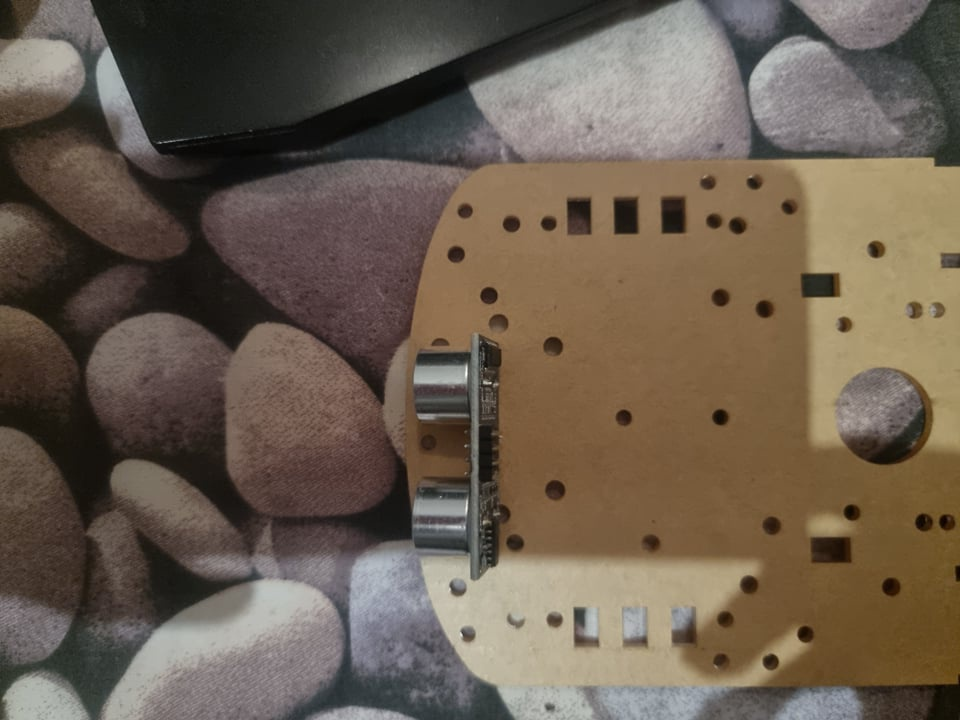SENSOR: (409, 332, 506, 583)
